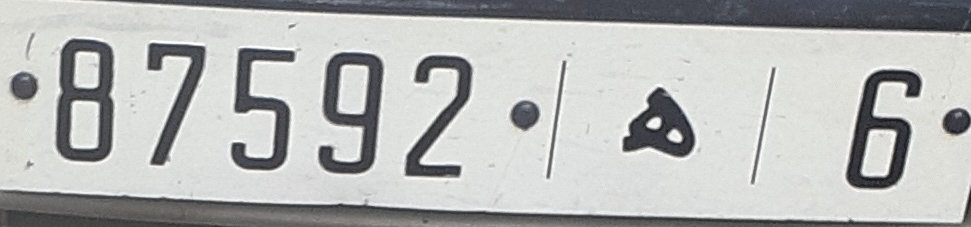2: (401, 48, 475, 182)
5: (228, 42, 299, 177)
6: (847, 66, 924, 195)
7: (140, 40, 208, 169)
8: (50, 35, 119, 168)
9: (317, 49, 386, 180)
h: (611, 82, 700, 168)
